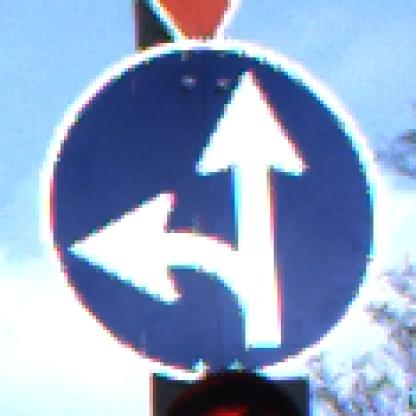Straight or Left: (37, 41, 382, 381)
